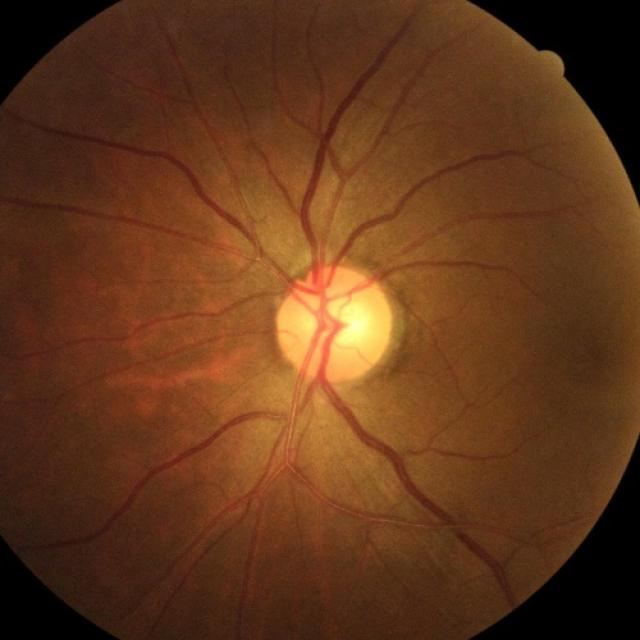OC: (324, 300, 368, 344)
OD: (278, 268, 391, 379)
